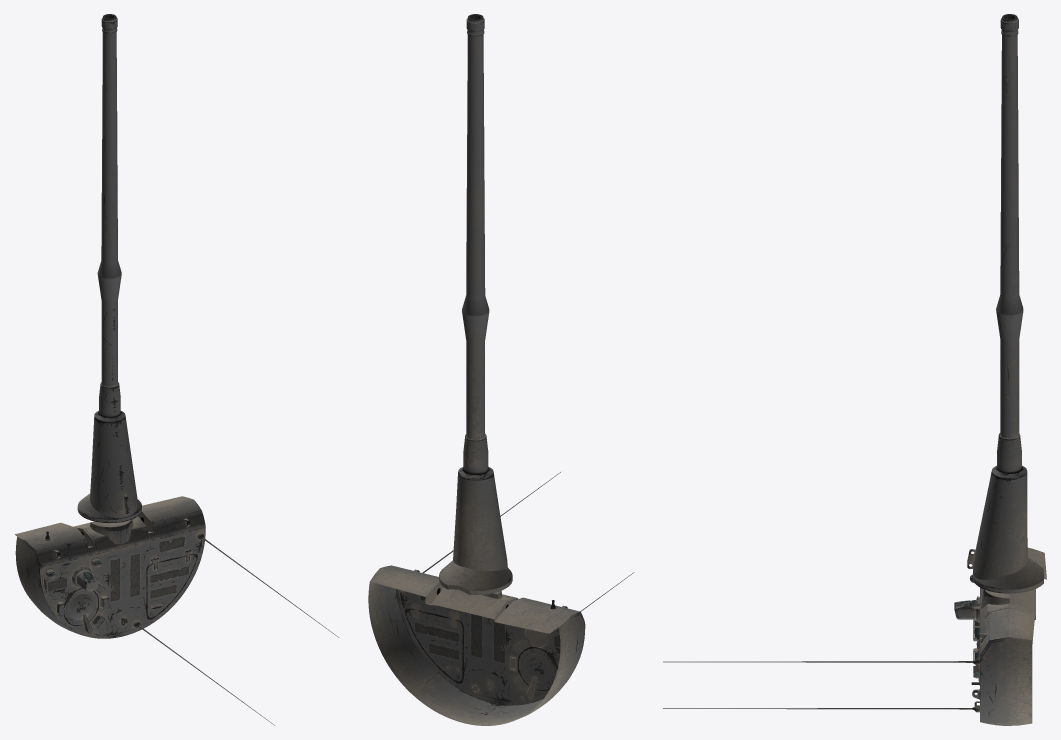
Rendered from Gun_01.glb.
The picture shows the model from 3 angles, left to right: view 1: azimuth 30°, elevation 25°; view 2: azimuth 150°, elevation 25°; view 3: azimuth 270°, elevation 25°; orthographic projection. The views are drawn at different scales.
Parts seen in each view (by area): view 1: set_0_group_0; view 2: set_0_group_0; view 3: set_0_group_0.
Boxes of the visible parts, x1,y1,x2,y2 form: set_0_group_0: [15, 14, 339, 725]; set_0_group_0: [368, 14, 634, 725]; set_0_group_0: [663, 14, 1046, 725].
Bounding box in the file's own units: 2.6 × 8.86 × 4.42.
Materials: 1 (1 with a texture image).
